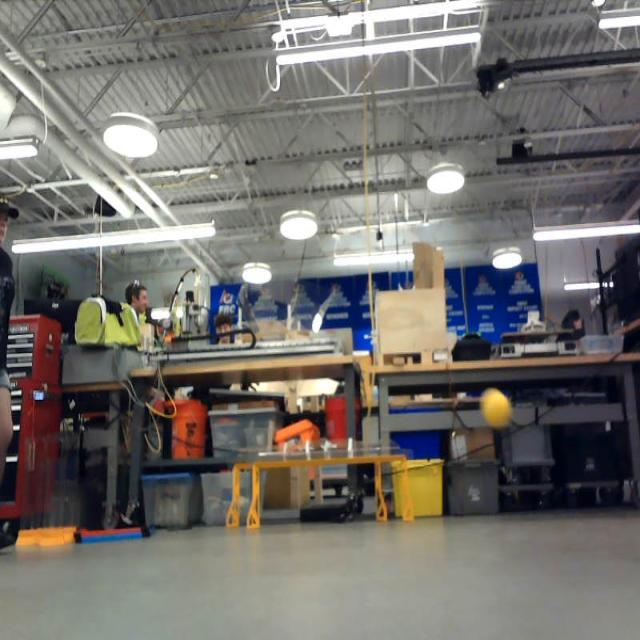Fuel: (485, 390, 511, 427)
